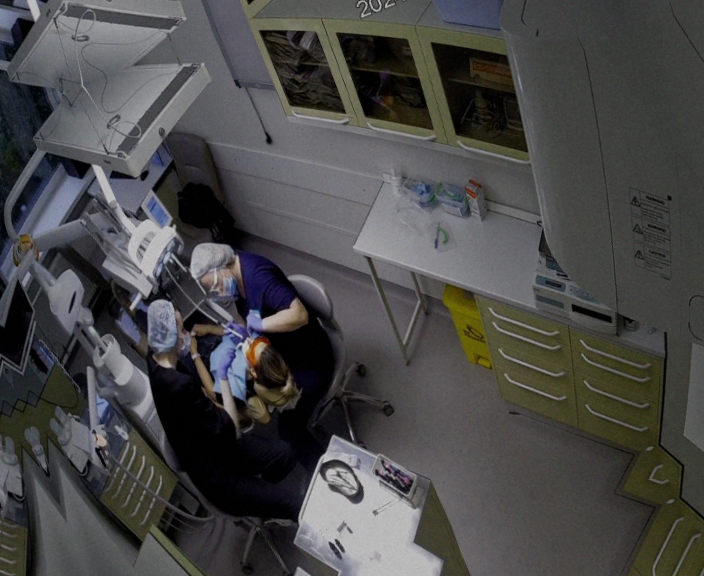Patient: (85, 225, 309, 467)
